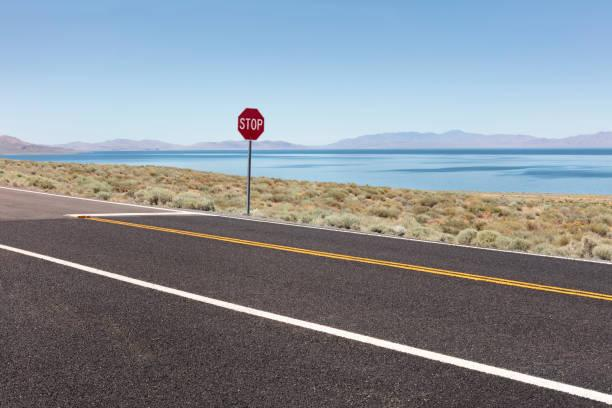Pole: (247, 140, 252, 214)
Sign: (237, 107, 264, 140)
